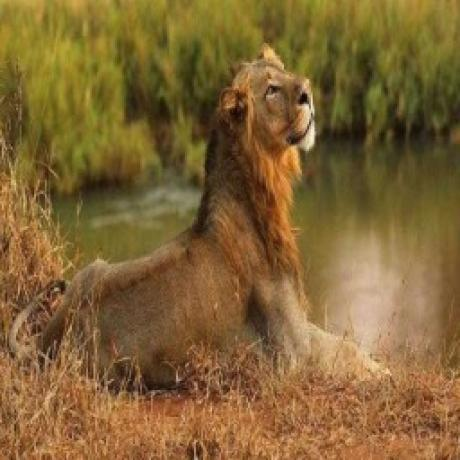Lion: (9, 45, 390, 379)
